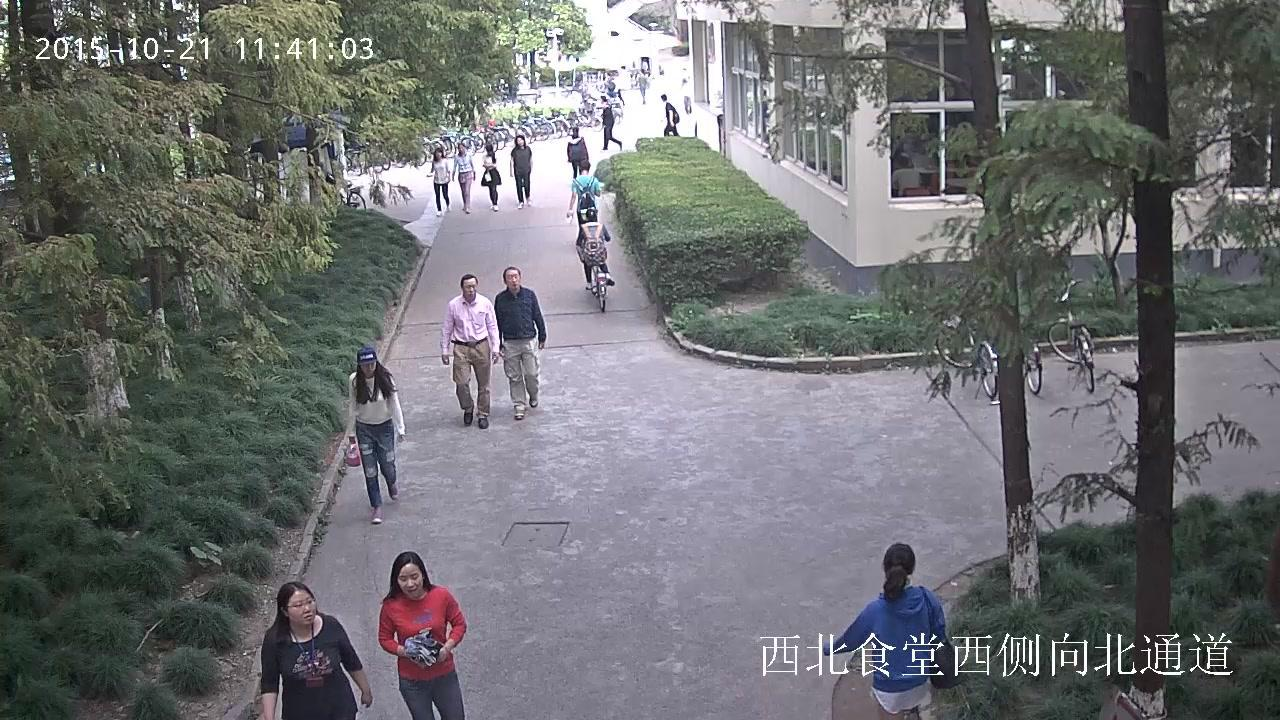person: (823, 542, 956, 720), (259, 581, 372, 720), (379, 550, 464, 720), (344, 346, 404, 522), (440, 272, 497, 429), (494, 265, 546, 420), (574, 205, 616, 311), (575, 206, 615, 289), (565, 160, 600, 235), (510, 135, 532, 208), (452, 143, 474, 216), (426, 148, 449, 217), (480, 143, 501, 211), (599, 96, 622, 151), (566, 126, 588, 179), (891, 158, 919, 197), (661, 93, 679, 136), (637, 70, 647, 103)
